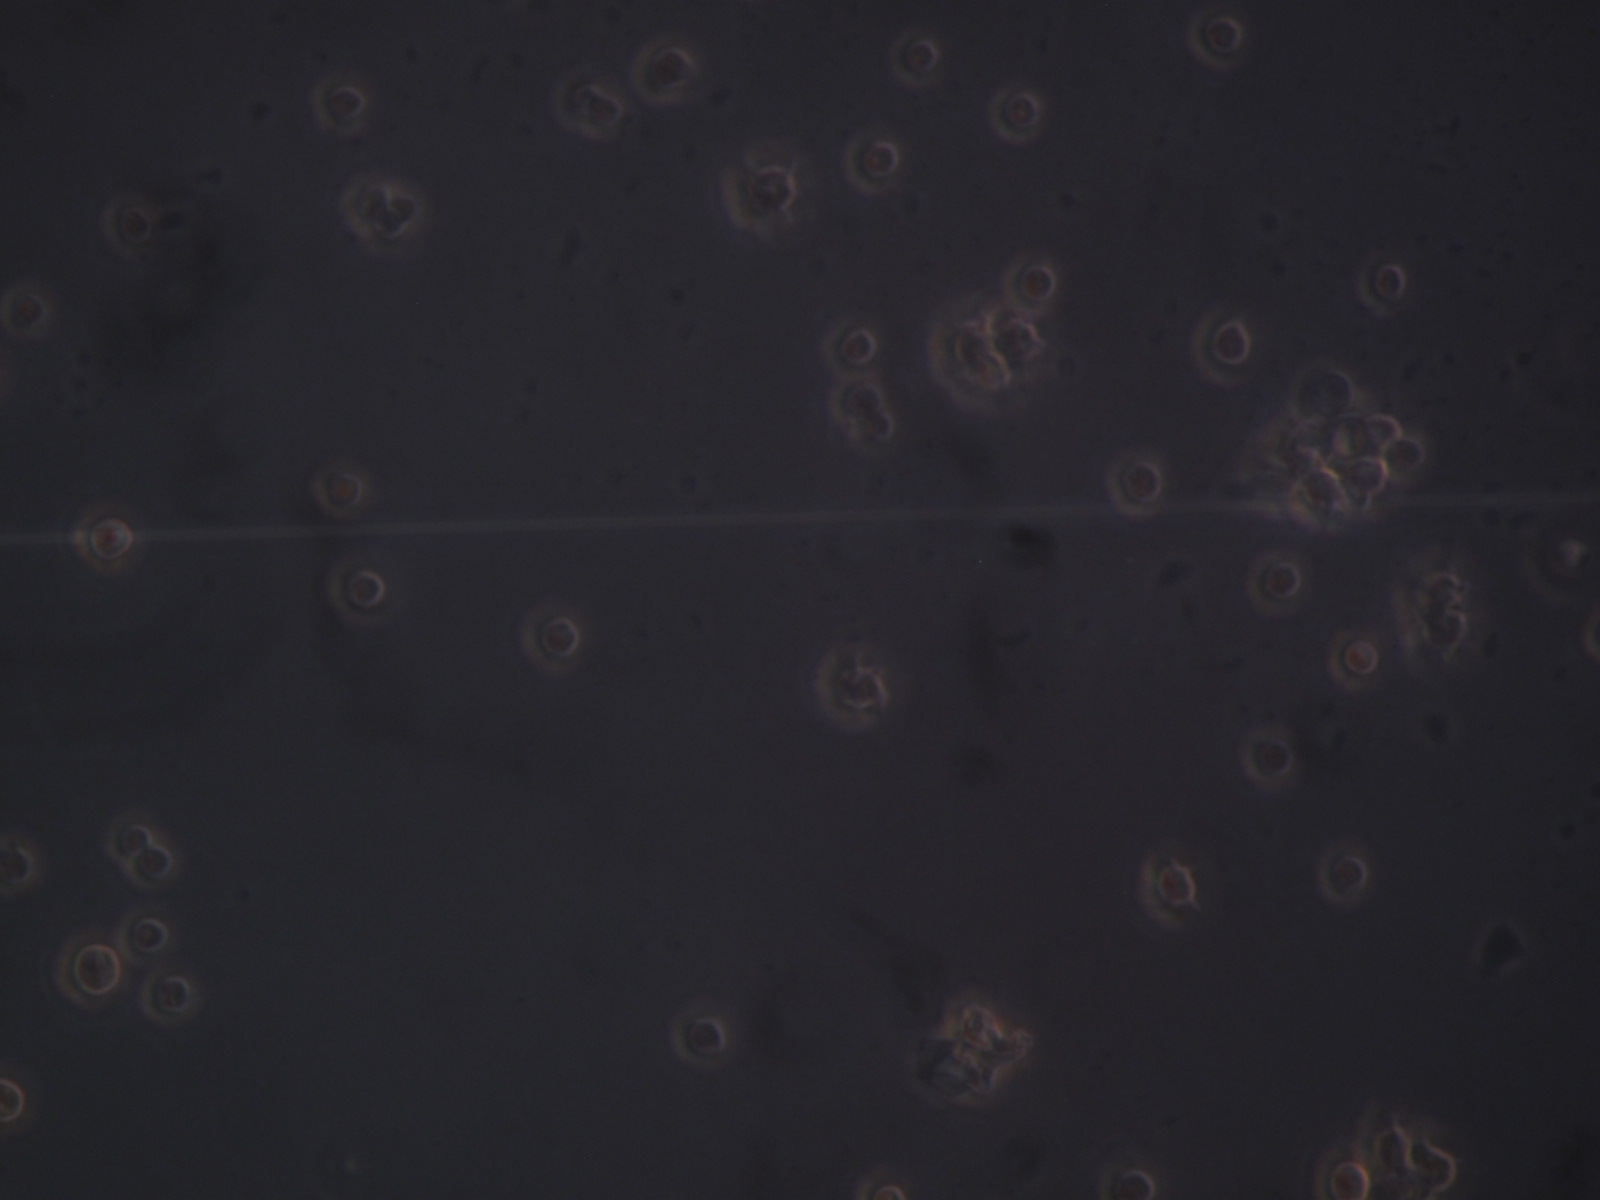hemo: (929, 300, 1017, 415), (814, 650, 889, 726), (721, 159, 797, 233), (1519, 523, 1586, 603), (55, 935, 122, 1010), (552, 74, 625, 140), (1191, 311, 1252, 386), (71, 505, 134, 574), (1291, 361, 1358, 424), (520, 606, 581, 676), (1354, 1105, 1409, 1182), (326, 557, 386, 626), (1139, 856, 1197, 926), (632, 42, 694, 105), (1104, 453, 1164, 517), (1289, 464, 1346, 532), (842, 131, 901, 195), (370, 190, 430, 252), (1409, 1129, 1460, 1200), (670, 1008, 728, 1070), (341, 176, 396, 241), (1246, 555, 1301, 616), (1187, 11, 1243, 71), (1335, 408, 1403, 458), (1002, 258, 1058, 315), (1356, 255, 1407, 316), (821, 320, 878, 376), (140, 969, 195, 1026), (310, 78, 367, 134), (988, 87, 1042, 142), (1328, 632, 1380, 689), (311, 464, 365, 518), (102, 200, 154, 257), (1313, 1150, 1371, 1200), (120, 909, 171, 964), (1242, 732, 1295, 785), (989, 308, 1041, 362), (889, 32, 940, 87), (1318, 848, 1369, 901), (1416, 608, 1470, 657), (1, 284, 50, 338), (1099, 1160, 1158, 1200), (830, 376, 886, 418), (105, 816, 152, 862), (127, 845, 175, 889), (1, 838, 37, 896), (850, 411, 897, 454), (1386, 436, 1429, 482), (1346, 455, 1391, 497), (1, 1066, 26, 1139), (855, 1175, 910, 1200), (1584, 608, 1600, 664)
